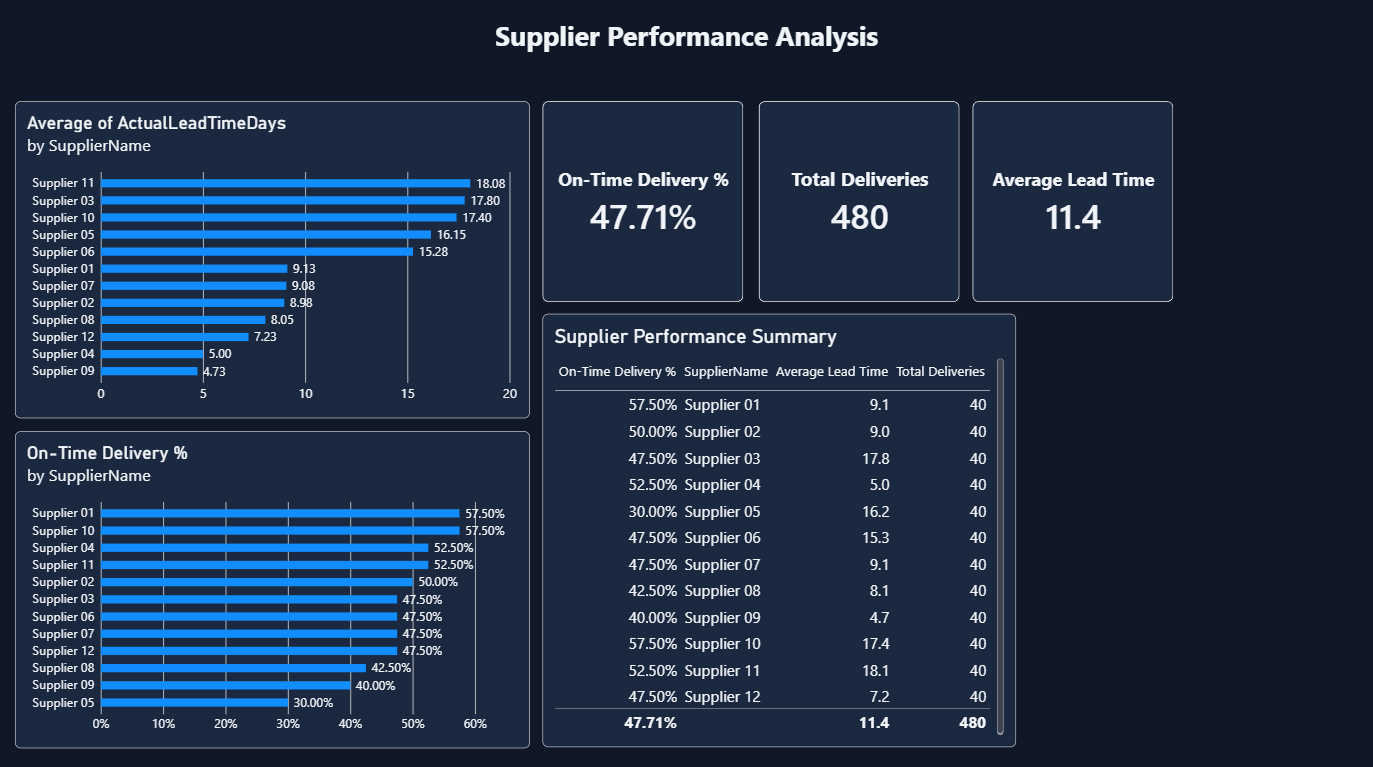

This screenshot's page, from the dashboard's own definition file:
{"tool":"powerbi","page":{"name":"Supplier Performance","canvas":[1920,1080],"ordinal":1},"visuals":[{"type":"cardVisual","fields":{"Data":["customers.Total Deliveries"]},"box":[1058,142,280,280],"z":0},{"type":"cardVisual","fields":{"Data":["supplier_deliveries.On-Time Delivery %"]},"box":[757.5,142,280,280],"z":1000},{"type":"cardVisual","fields":{"Data":["supplier_deliveries.Average Lead Time"]},"box":[1356.4,142,280,280],"z":2000},{"type":"clusteredBarChart","fields":{"Category":["suppliers.SupplierName"],"Y":["supplier_deliveries.On-Time Delivery %"]},"box":[20.6,601,718.4,442.5],"z":3000},{"type":"clusteredBarChart","fields":{"Category":["suppliers.SupplierName"],"Y":["Avg(supplier_deliveries.ActualLeadTimeDays)"]},"box":[20.6,142,718.4,442.5],"z":4000},{"type":"tableEx","title":"Supplier Performance Summary","fields":{"Values":["supplier_deliveries.On-Time Delivery %","suppliers.SupplierName","supplier_deliveries.Average Lead Time","customers.Total Deliveries"]},"box":[757.5,438.4,660.7,605.1],"z":5000},{"type":"textbox","box":[1620,356,300,150],"z":5001},{"type":"textbox","box":[690.7,24.4,591.3,71.5],"z":5002}]}

Visuals, with their boxes in screenshot pixels (x1, y1, x2, y2), scaled from the page's 1920x1080 canvas onto the 1373x767 screenshot:
cardVisual - customers.Total Deliveries: BBox(757, 101, 957, 300)
cardVisual - supplier_deliveries.On-Time Delivery %: BBox(542, 101, 742, 300)
cardVisual - supplier_deliveries.Average Lead Time: BBox(970, 101, 1170, 300)
clusteredBarChart - suppliers.SupplierName x supplier_deliveries.On-Time Delivery %: BBox(15, 427, 528, 741)
clusteredBarChart - suppliers.SupplierName x Avg(supplier_deliveries.ActualLeadTimeDays): BBox(15, 101, 528, 415)
"Supplier Performance Summary" tableEx: BBox(542, 311, 1014, 741)
textbox: BBox(1158, 253, 1372, 359)
textbox: BBox(494, 17, 917, 68)
